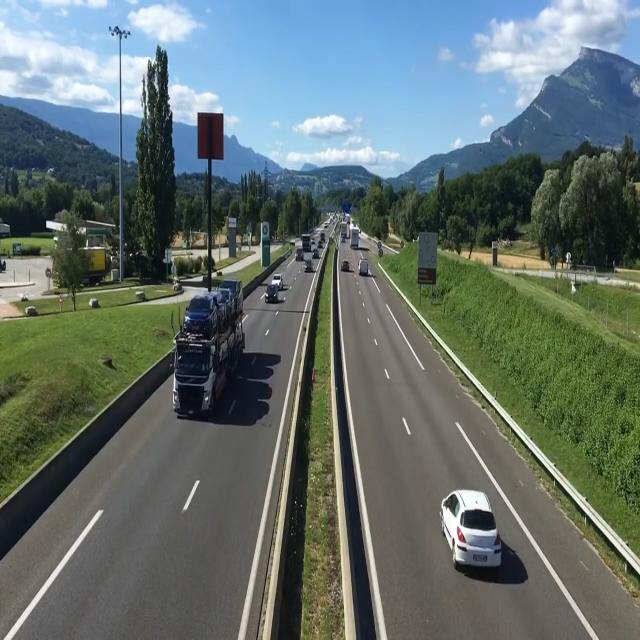car: (444, 487, 506, 585), (358, 253, 372, 280), (263, 282, 279, 304), (340, 257, 351, 274), (304, 258, 313, 274)
truck: (172, 284, 225, 420), (349, 225, 360, 251)
